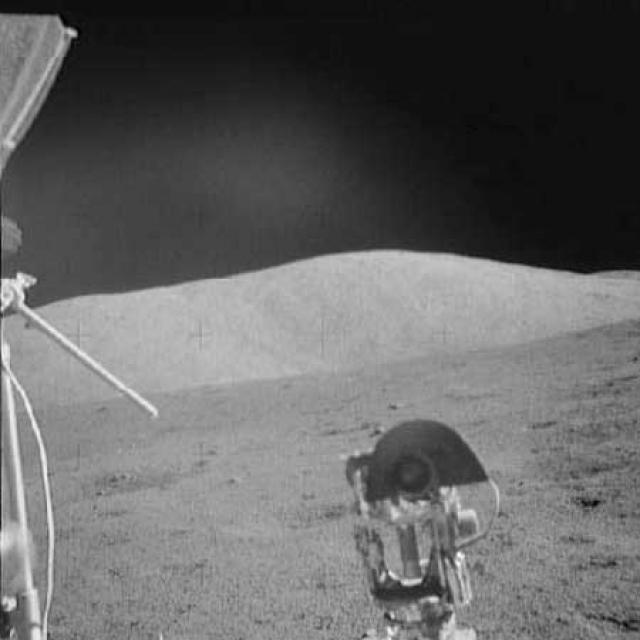artifact: (0, 16, 162, 421), (327, 415, 504, 639), (0, 421, 66, 639)
crater: (214, 498, 352, 530), (518, 396, 631, 431), (291, 416, 384, 439), (525, 464, 611, 488)
